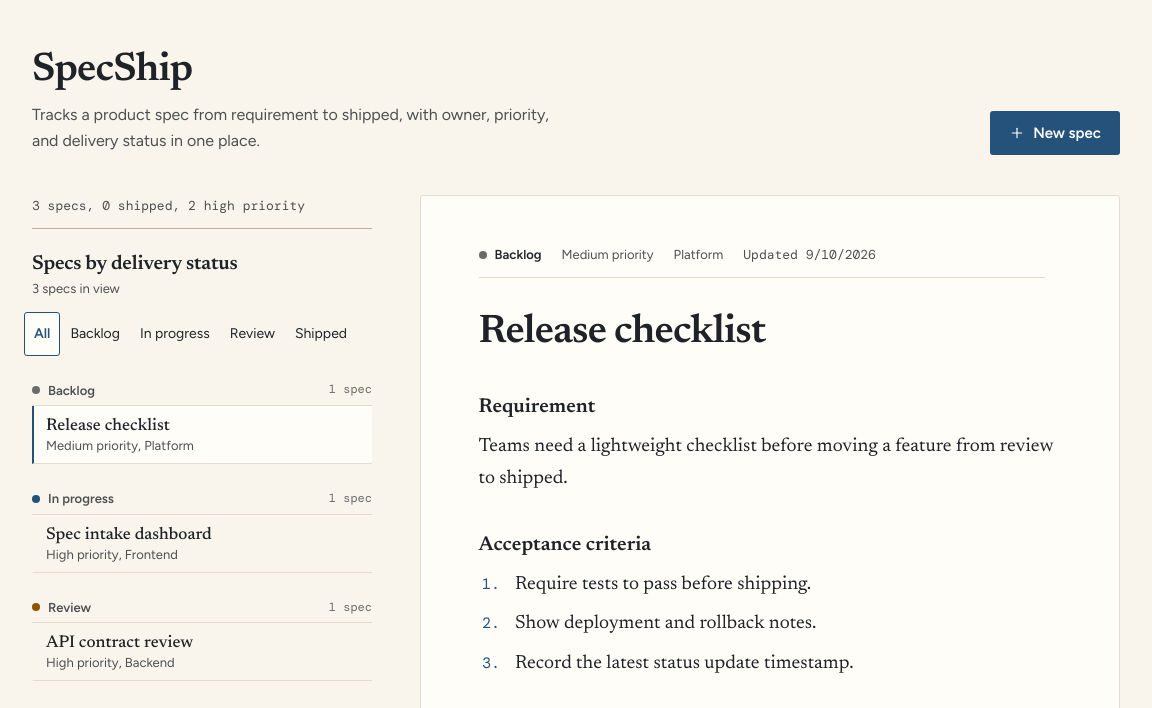
Scenario: SpecShip dashboard › keeps the current status when a successful move response is unreadable
Click the button "Spec intake dashboard High priority, Frontend" at [202, 544], box [32,515,372,573]
(page scrolled)
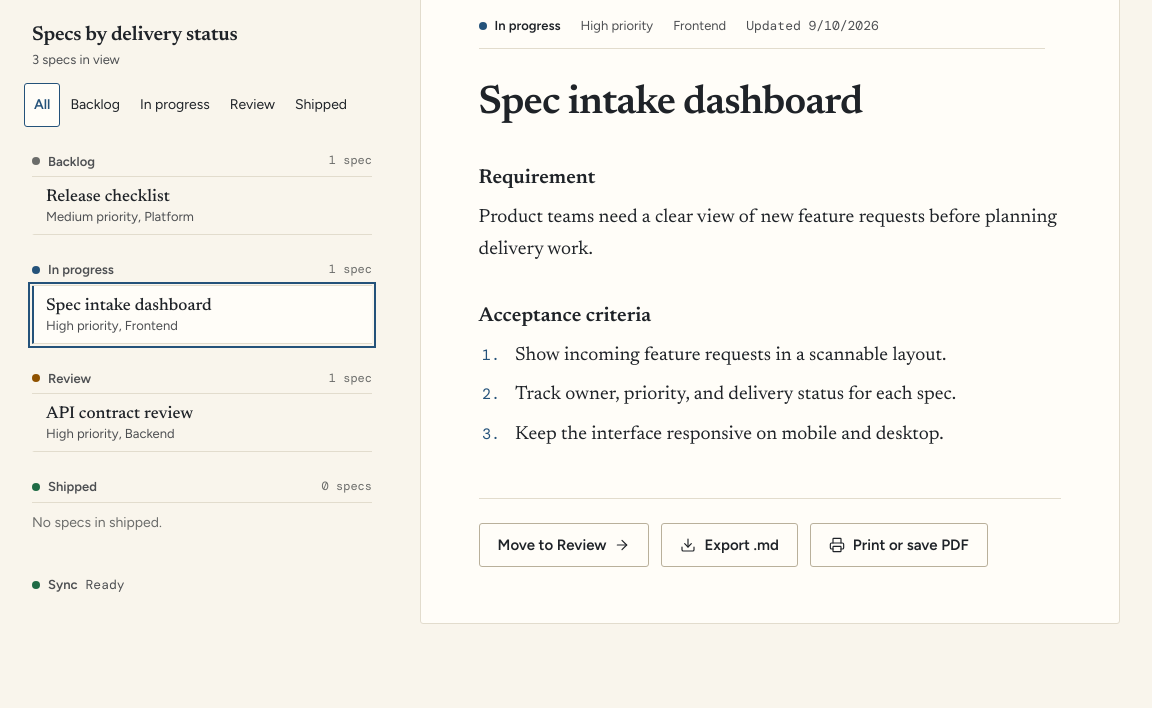
Click the button with aria-label "Move Spec intake dashboard from In progress" at [564, 545], box [479,523,649,567]
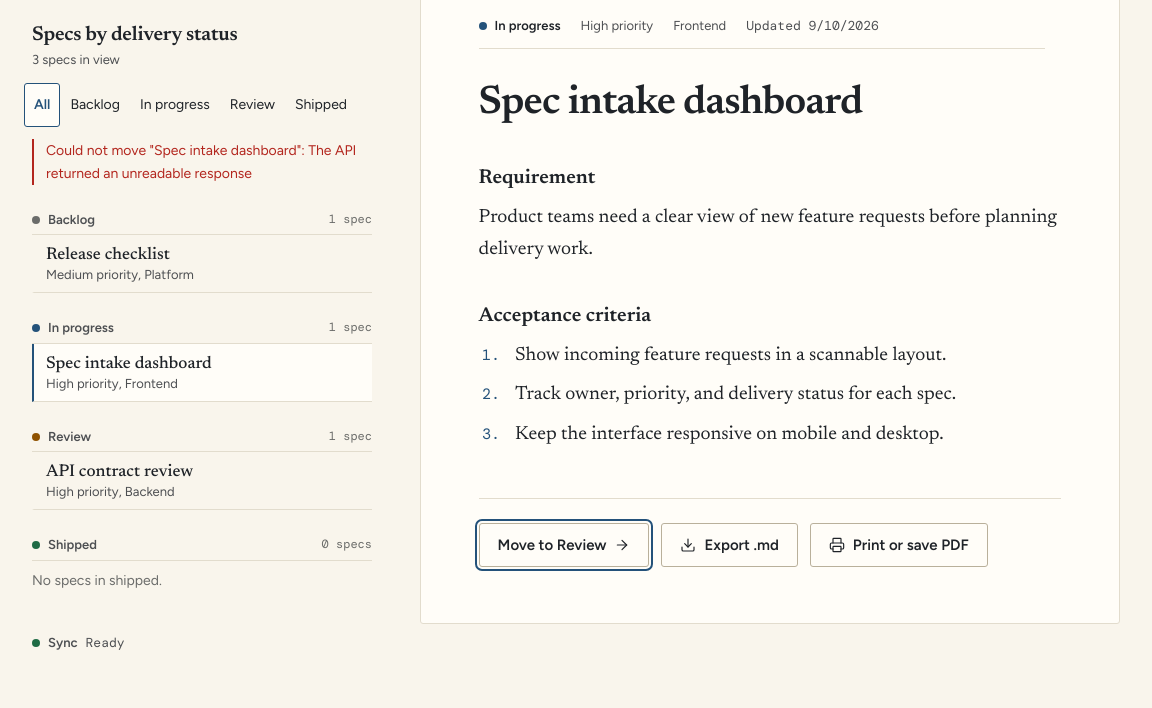
Check: the button with aria-label "Move Spec intake dashboard from In progress" is shown, box [479,523,649,567]
Check: the message shows "unreadable response", box [46,142,356,182]
